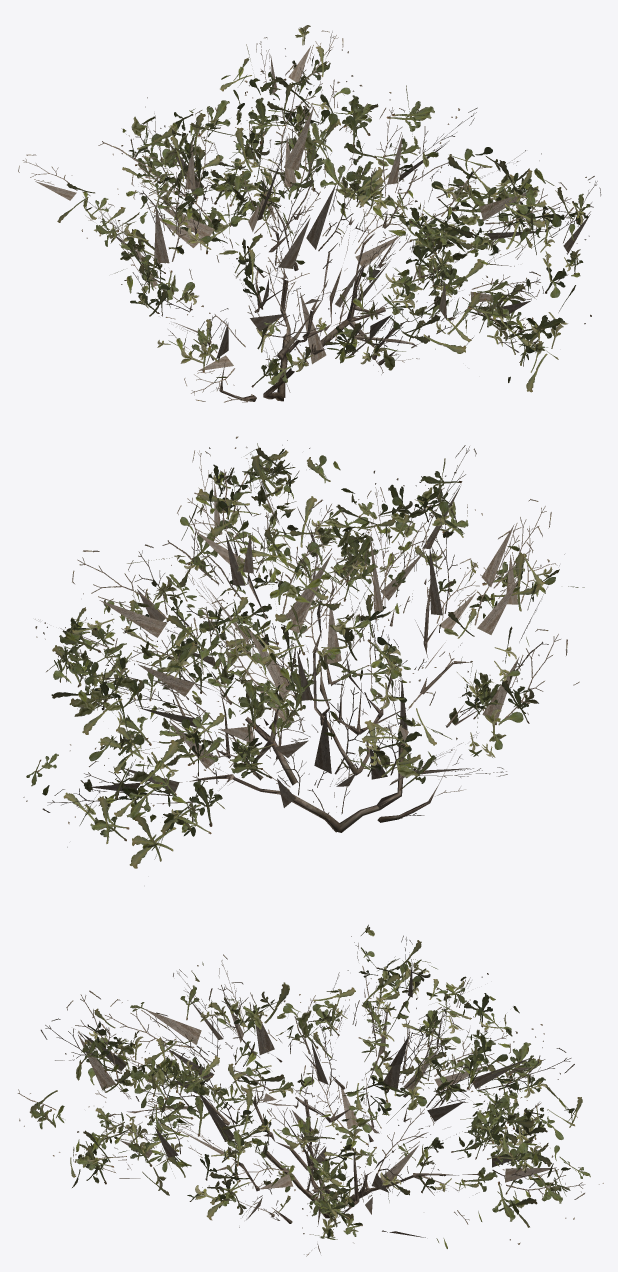
File: thorn.glb
3 views of the same model, one above another, from view 1: azimuth 30°, elevation 25°; view 2: azimuth 150°, elevation 25°; view 3: azimuth 270°, elevation 25° (orthographic). The views are drawn at different scales.
Parts seen in each view (by area): view 1: lod1; view 2: lod1; view 3: lod1.
Boxes of the visible parts, bbox=[...] form: lod1: bbox=[18, 25, 601, 402]; lod1: bbox=[23, 436, 584, 868]; lod1: bbox=[17, 924, 603, 1256].
Bounding box in the file's own units: 6.2 × 4.95 × 8.19.
2 materials, 2 textured.
